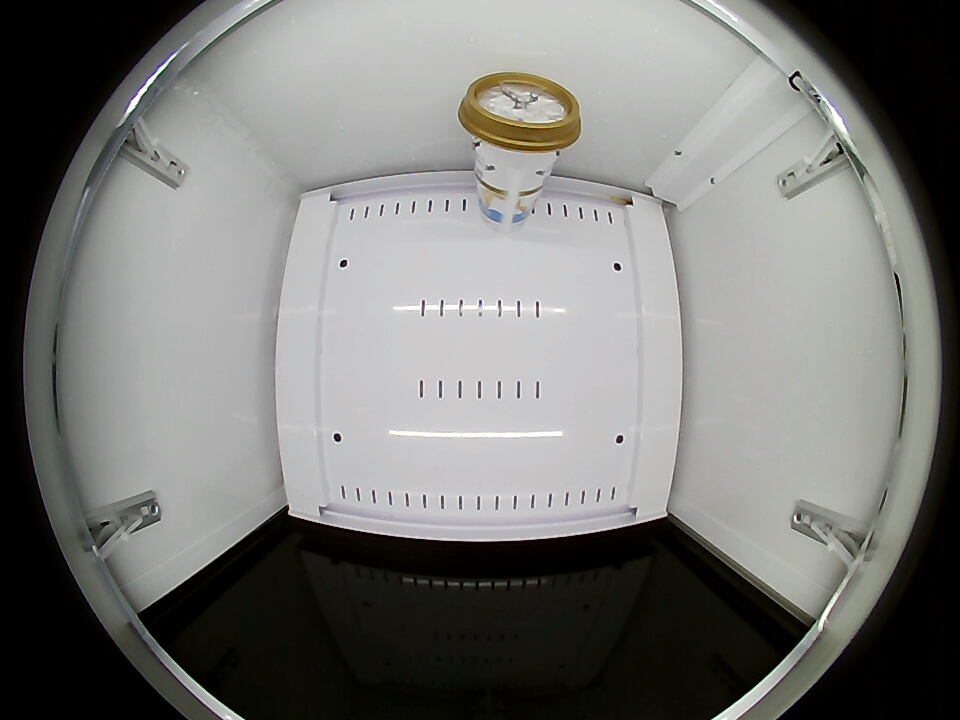lujiaoxiang: (458, 73, 582, 161)
